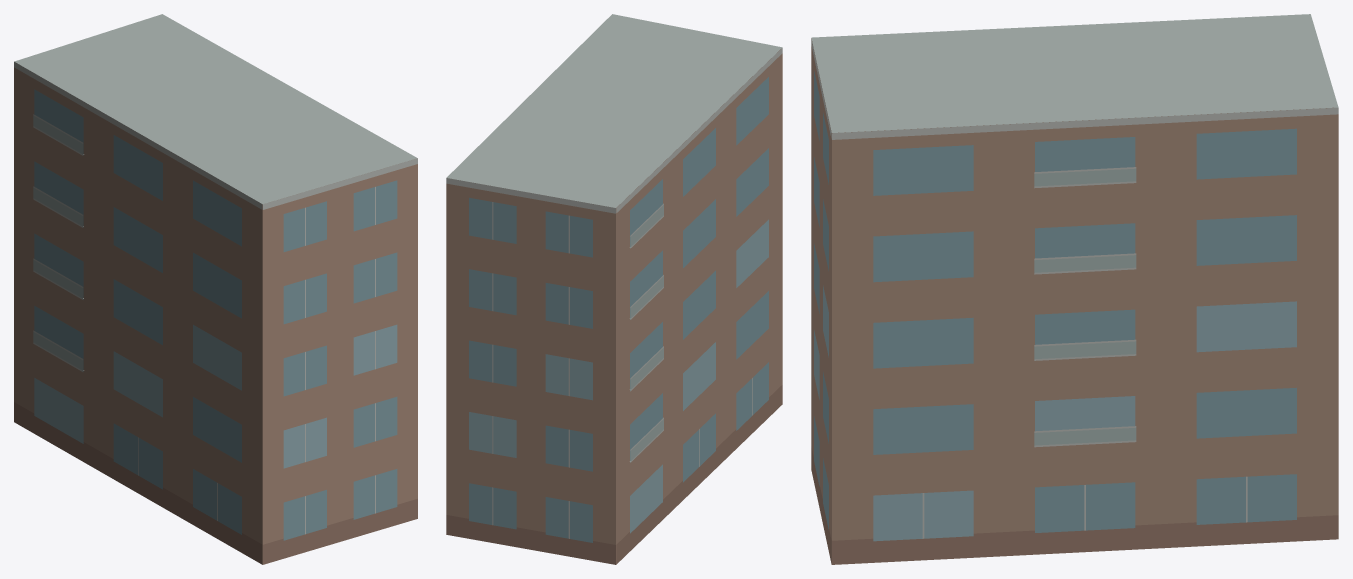
Rendered from survey-upis-32743528.glb.
The picture shows the model from 3 angles, left to right: view 1: azimuth 30°, elevation 25°; view 2: azimuth 150°, elevation 25°; view 3: azimuth 270°, elevation 25°; orthographic projection. The views are drawn at different scales.
Parts seen in each view (by area): view 1: survey-upis-32743528.tmp; view 2: survey-upis-32743528.tmp; view 3: survey-upis-32743528.tmp.
Part boxes in pixels (bbox=[...]): survey-upis-32743528.tmp: bbox=[14, 14, 417, 564]; survey-upis-32743528.tmp: bbox=[446, 14, 782, 564]; survey-upis-32743528.tmp: bbox=[811, 14, 1338, 564].
Bounding box in the file's own units: 9.03 × 15.25 × 16.89.
